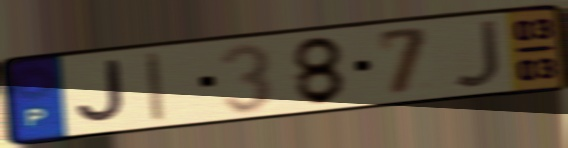3: (218, 38, 279, 117)
7: (374, 23, 437, 100)
8: (289, 34, 350, 107)
I: (142, 49, 168, 126)
J: (450, 16, 504, 90), (73, 57, 130, 127)
